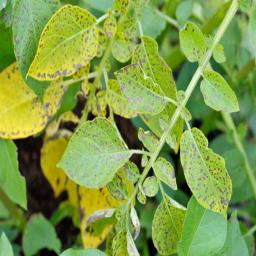Early_blight: (221, 196, 228, 205), (56, 70, 67, 75), (117, 143, 124, 150), (86, 182, 94, 188), (118, 154, 126, 160), (37, 74, 47, 78), (124, 67, 129, 75), (84, 36, 89, 44), (209, 201, 213, 210), (120, 82, 124, 91), (183, 161, 187, 169), (205, 156, 210, 162), (191, 142, 195, 149), (76, 63, 81, 68), (92, 120, 98, 124), (139, 95, 142, 102), (215, 94, 218, 101), (76, 172, 79, 177), (200, 169, 203, 173), (213, 87, 215, 93), (129, 81, 132, 85), (192, 28, 194, 33), (105, 141, 107, 145)
Leaf: (56, 117, 133, 189), (27, 3, 98, 81), (180, 127, 232, 219), (114, 62, 167, 115), (201, 71, 241, 114), (179, 20, 206, 62)
